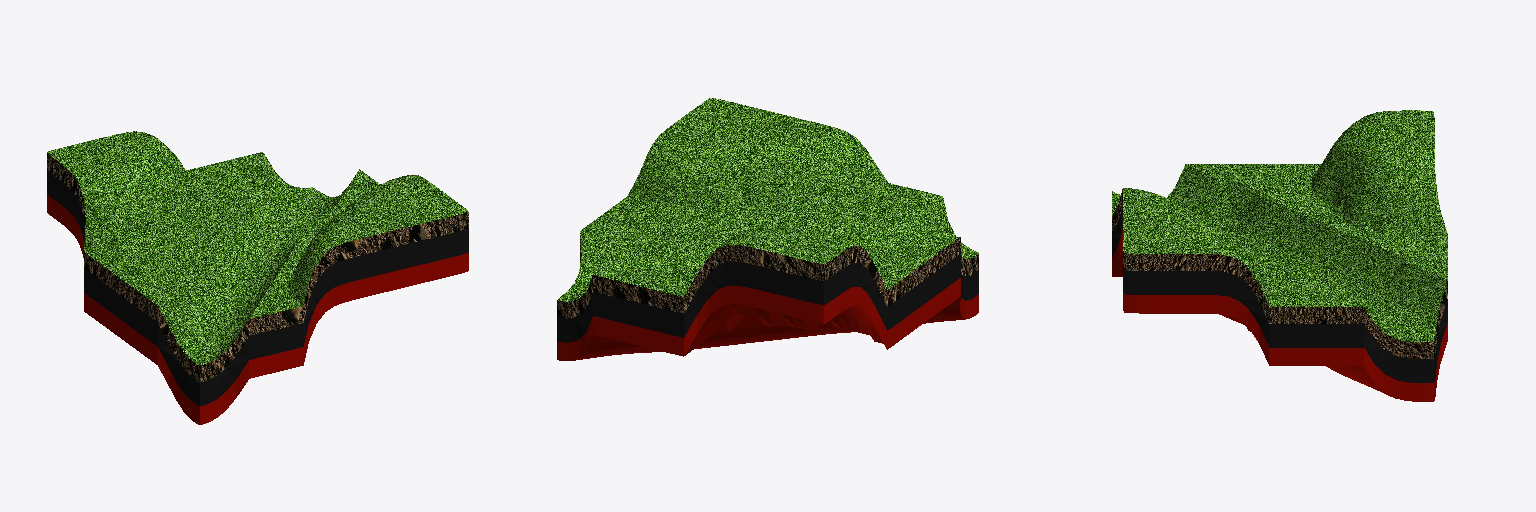
3 views of the same model, side by side, from view 1: azimuth 30°, elevation 25°; view 2: azimuth 150°, elevation 25°; view 3: azimuth 270°, elevation 25° (orthographic).
Visible parts, largest first — view 1: Grass_Plane.096, RockEast_Plane.008, MagmaEast_Plane.013, EarthEast_Plane.002, RockSouth_Plane.007, MagmaSouth_Plane.012, EarthSouth_Plane.001; view 2: Grass_Plane.096, RockWest_Plane.006, Magma_Plane.110, MagmaWest_Plane.010, EarthWest_Plane.000, RockSouth_Plane.007, MagmaSouth_Plane.012, EarthSouth_Plane.001; view 3: Grass_Plane.096, RockNorth_Plane.005, MagmaNorth_Plane.009, EarthNorth_Plane.003, Magma_Plane.110.
Boxes of the visible parts, x1=… form: Grass_Plane.096: x1=47, y1=131, x2=467, y2=365; RockEast_Plane.008: x1=200, y1=229, x2=468, y2=405; MagmaEast_Plane.013: x1=200, y1=253, x2=468, y2=424; EarthEast_Plane.002: x1=200, y1=212, x2=468, y2=381; RockSouth_Plane.007: x1=47, y1=171, x2=199, y2=406; MagmaSouth_Plane.012: x1=47, y1=194, x2=199, y2=424; EarthSouth_Plane.001: x1=47, y1=153, x2=199, y2=382; Grass_Plane.096: x1=558, y1=98, x2=978, y2=301; RockWest_Plane.006: x1=557, y1=262, x2=823, y2=342; Magma_Plane.110: x1=573, y1=296, x2=965, y2=360; MagmaWest_Plane.010: x1=557, y1=286, x2=823, y2=360; EarthWest_Plane.000: x1=557, y1=245, x2=823, y2=318; RockSouth_Plane.007: x1=824, y1=254, x2=978, y2=330; MagmaSouth_Plane.012: x1=824, y1=278, x2=978, y2=349; EarthSouth_Plane.001: x1=824, y1=237, x2=978, y2=306; Grass_Plane.096: x1=1112, y1=110, x2=1447, y2=341; RockNorth_Plane.005: x1=1124, y1=270, x2=1433, y2=382; MagmaNorth_Plane.009: x1=1124, y1=294, x2=1433, y2=401; EarthNorth_Plane.003: x1=1124, y1=253, x2=1433, y2=358; Magma_Plane.110: x1=1112, y1=248, x2=1390, y2=396.
Bounding box in the file's own units: 8.07 × 4.25 × 8.07.
Materials: 4 (2 with a texture image).